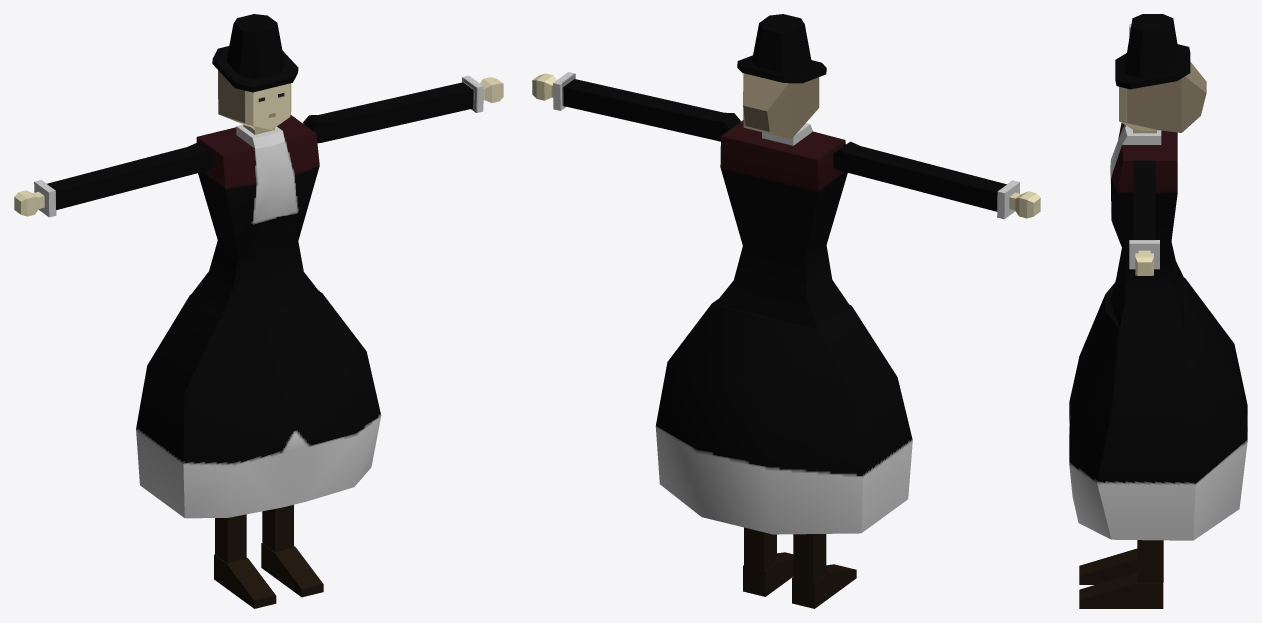
The model's file is char_black.fbx.
3 views of the same model, side by side, from view 1: azimuth 30°, elevation 25°; view 2: azimuth 150°, elevation 25°; view 3: azimuth 270°, elevation 25° (orthographic). The views are drawn at different scales.
Visible parts, largest first — view 1: skirt, MsBlack, hat, fore_arm (×2), foot (×2), LEFT_arm, RIGHT_arm, head, lower_leg (×2), hand; view 2: skirt, MsBlack, fore_arm (×2), hat, head, RIGHT_arm, LEFT_arm, foot (×2), lower_leg (×2), hand; view 3: skirt, MsBlack, hat, head, foot (×2), fore_arm, LEFT_arm, lower_leg, hand.
Boxes of the visible parts, bbox=[...] form: skirt: bbox=[136, 290, 381, 518]; MsBlack: bbox=[191, 115, 320, 317]; hat: bbox=[212, 14, 298, 92]; fore_arm (×2): bbox=[34, 75, 483, 217]; foot (×2): bbox=[214, 543, 323, 608]; LEFT_arm: bbox=[303, 96, 413, 143]; RIGHT_arm: bbox=[104, 142, 213, 194]; head: bbox=[218, 70, 291, 132]; lower_leg (×2): bbox=[215, 505, 293, 563]; hand: bbox=[14, 190, 44, 216]; skirt: bbox=[655, 299, 912, 534]; MsBlack: bbox=[715, 120, 849, 328]; fore_arm (×2): bbox=[553, 72, 1019, 219]; hat: bbox=[737, 14, 826, 83]; head: bbox=[743, 73, 819, 139]; RIGHT_arm: bbox=[833, 141, 946, 195]; LEFT_arm: bbox=[626, 93, 740, 141]; foot (×2): bbox=[743, 552, 856, 608]; lower_leg (×2): bbox=[744, 527, 826, 582]; hand: bbox=[1009, 191, 1040, 218]; skirt: bbox=[1069, 277, 1247, 540]; MsBlack: bbox=[1110, 123, 1183, 327]; hat: bbox=[1115, 14, 1190, 89]; head: bbox=[1119, 62, 1206, 132]; foot (×2): bbox=[1079, 548, 1163, 608]; fore_arm: bbox=[1129, 211, 1159, 269]; LEFT_arm: bbox=[1133, 160, 1155, 211]; lower_leg: bbox=[1137, 540, 1163, 582]; hand: bbox=[1135, 250, 1153, 275].
Size of the model in its own units: 2.09 by 2.28 by 0.6479.
